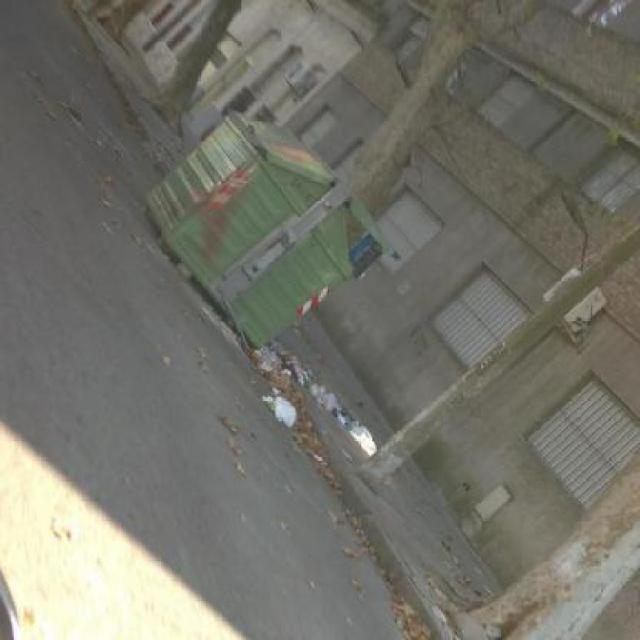garbage: (310, 388, 389, 451), (371, 577, 436, 640), (260, 339, 299, 438), (206, 412, 250, 490)
